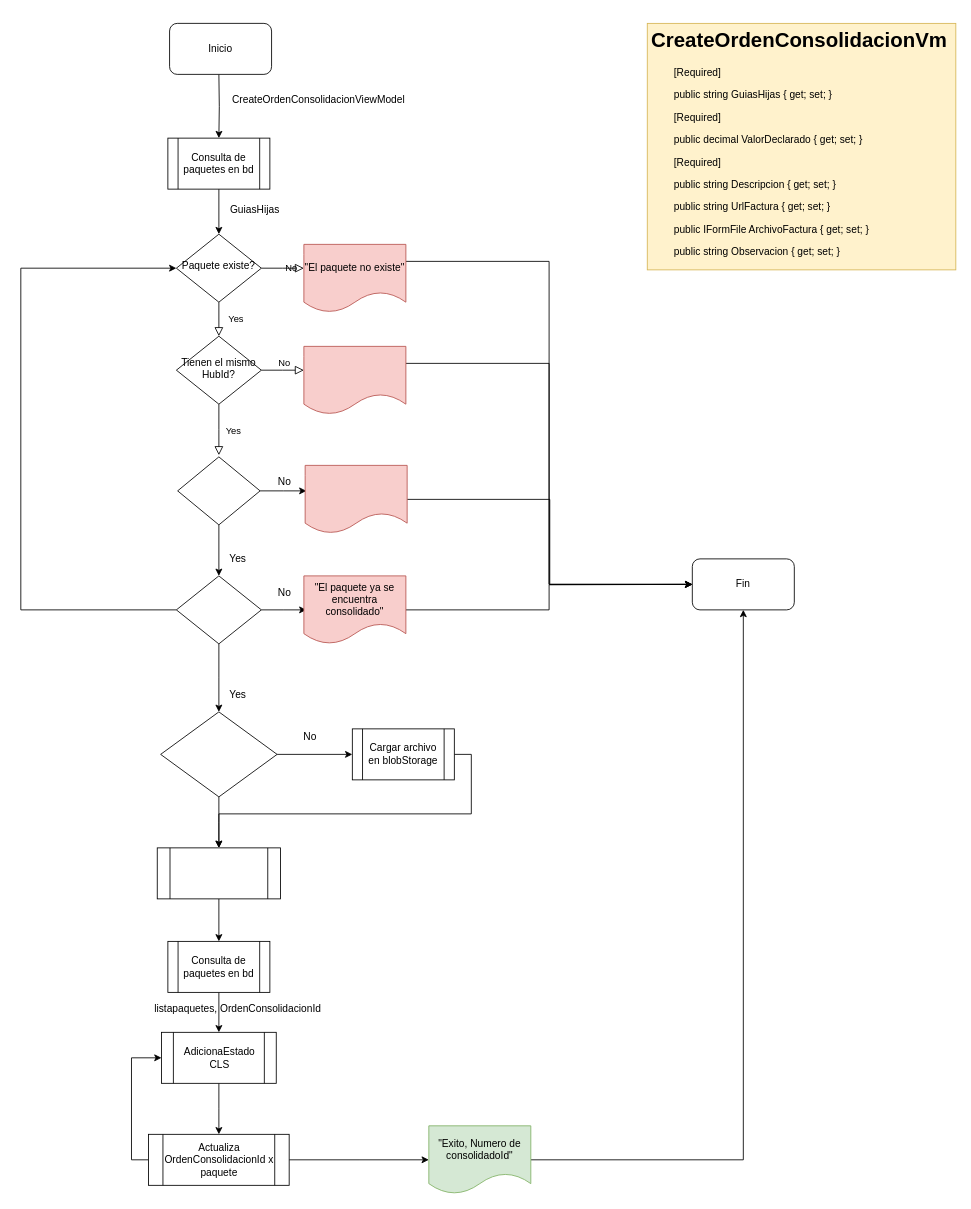
Image size: 971x1209. Some labels were removed from this diagram. Here are the shapes that lost their labels. From the top down, the centre of each, then its label:
[354,380]: "El paquete pertenece a otro Hub"
[218,490]: TrackingName == BLQ
[355,499]: "El paquete no cumple con el estado BLG"
[218,609]: OrdenConsolidacionId == null
[218,754]: ArchivoFactura == null
[218,873]: Crear nueva OrdenConsolidacion en bd
